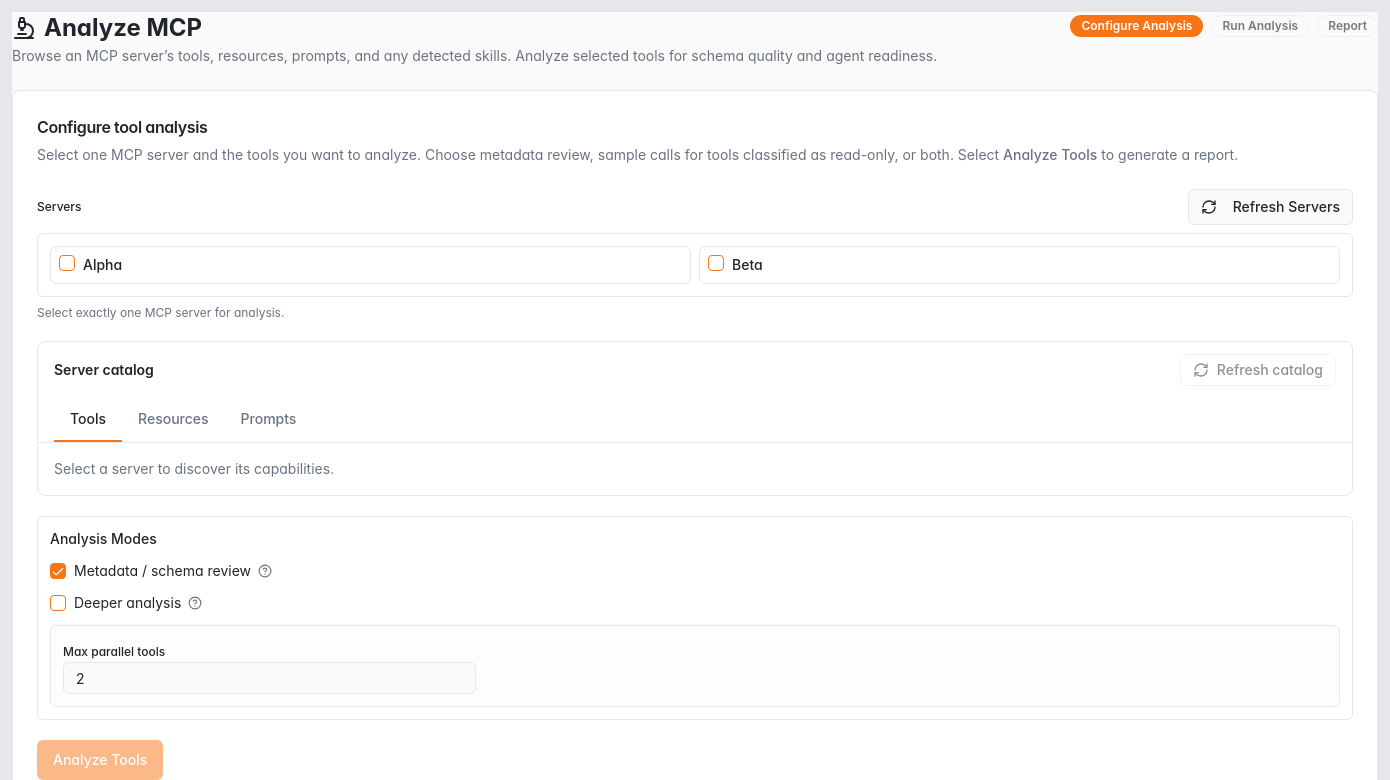
Test: Analyze MCP catalog › uses the selected server name as the catalog heading
Step 1. Click the checkbox named "Alpha" next to "Alpha" → x=67, y=263, box [59,255,75,271]
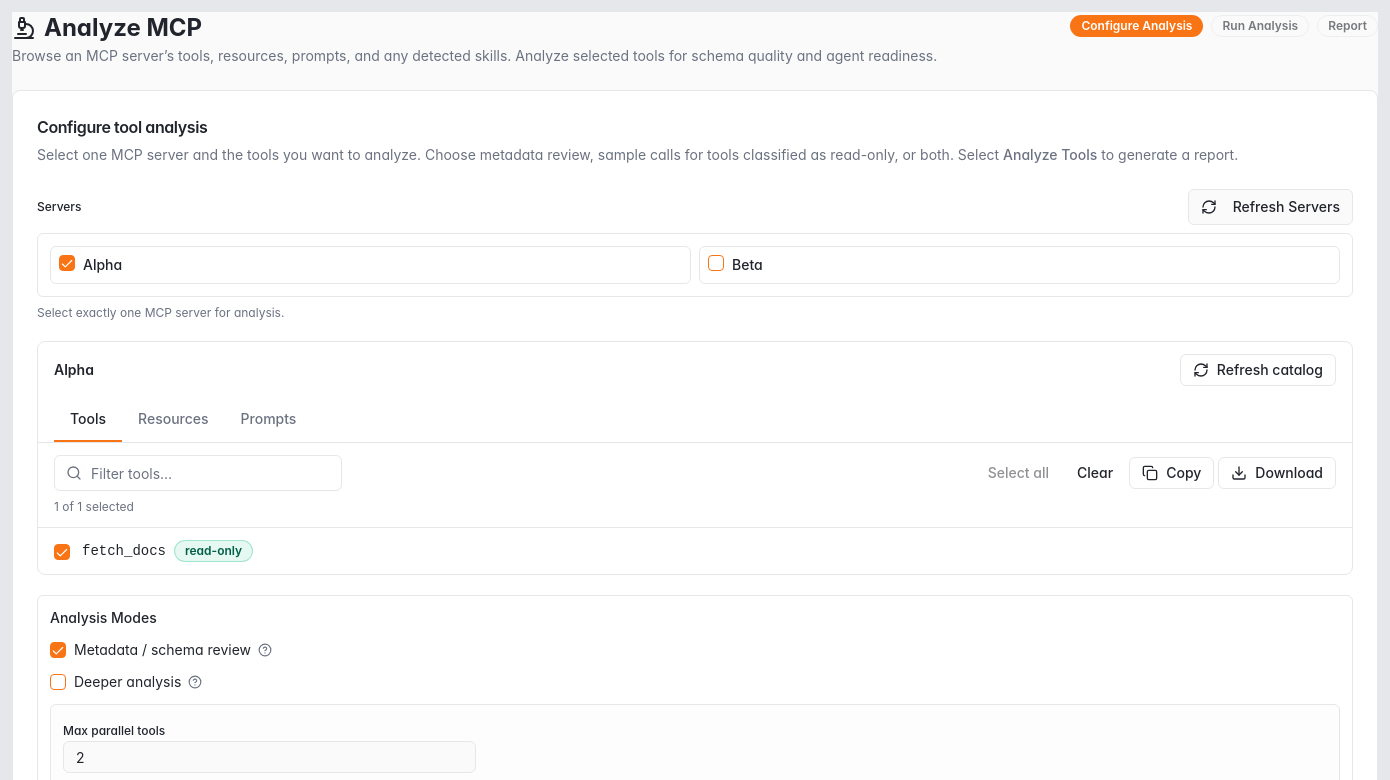
Expected: the text "fetch_docs" is shown, [82,541,166,561]
Expected: the heading "Alpha" is shown, [54,360,94,380]
Expected: the heading "Server catalog" is gone
Step 2. Click the 1st checkbox named "Alpha" → x=67, y=263, box [59,255,75,271]
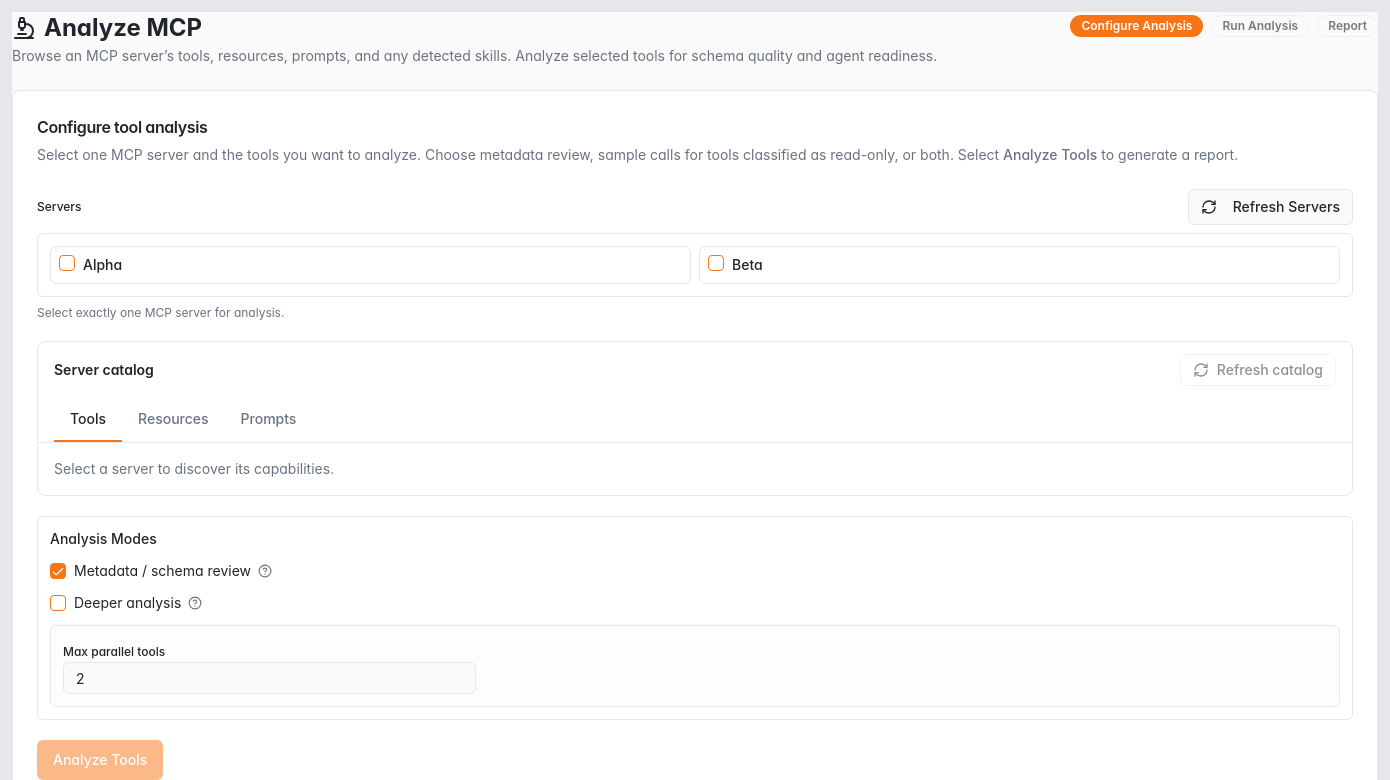
Expected: the heading "Server catalog" is shown, [54,360,154,380]
